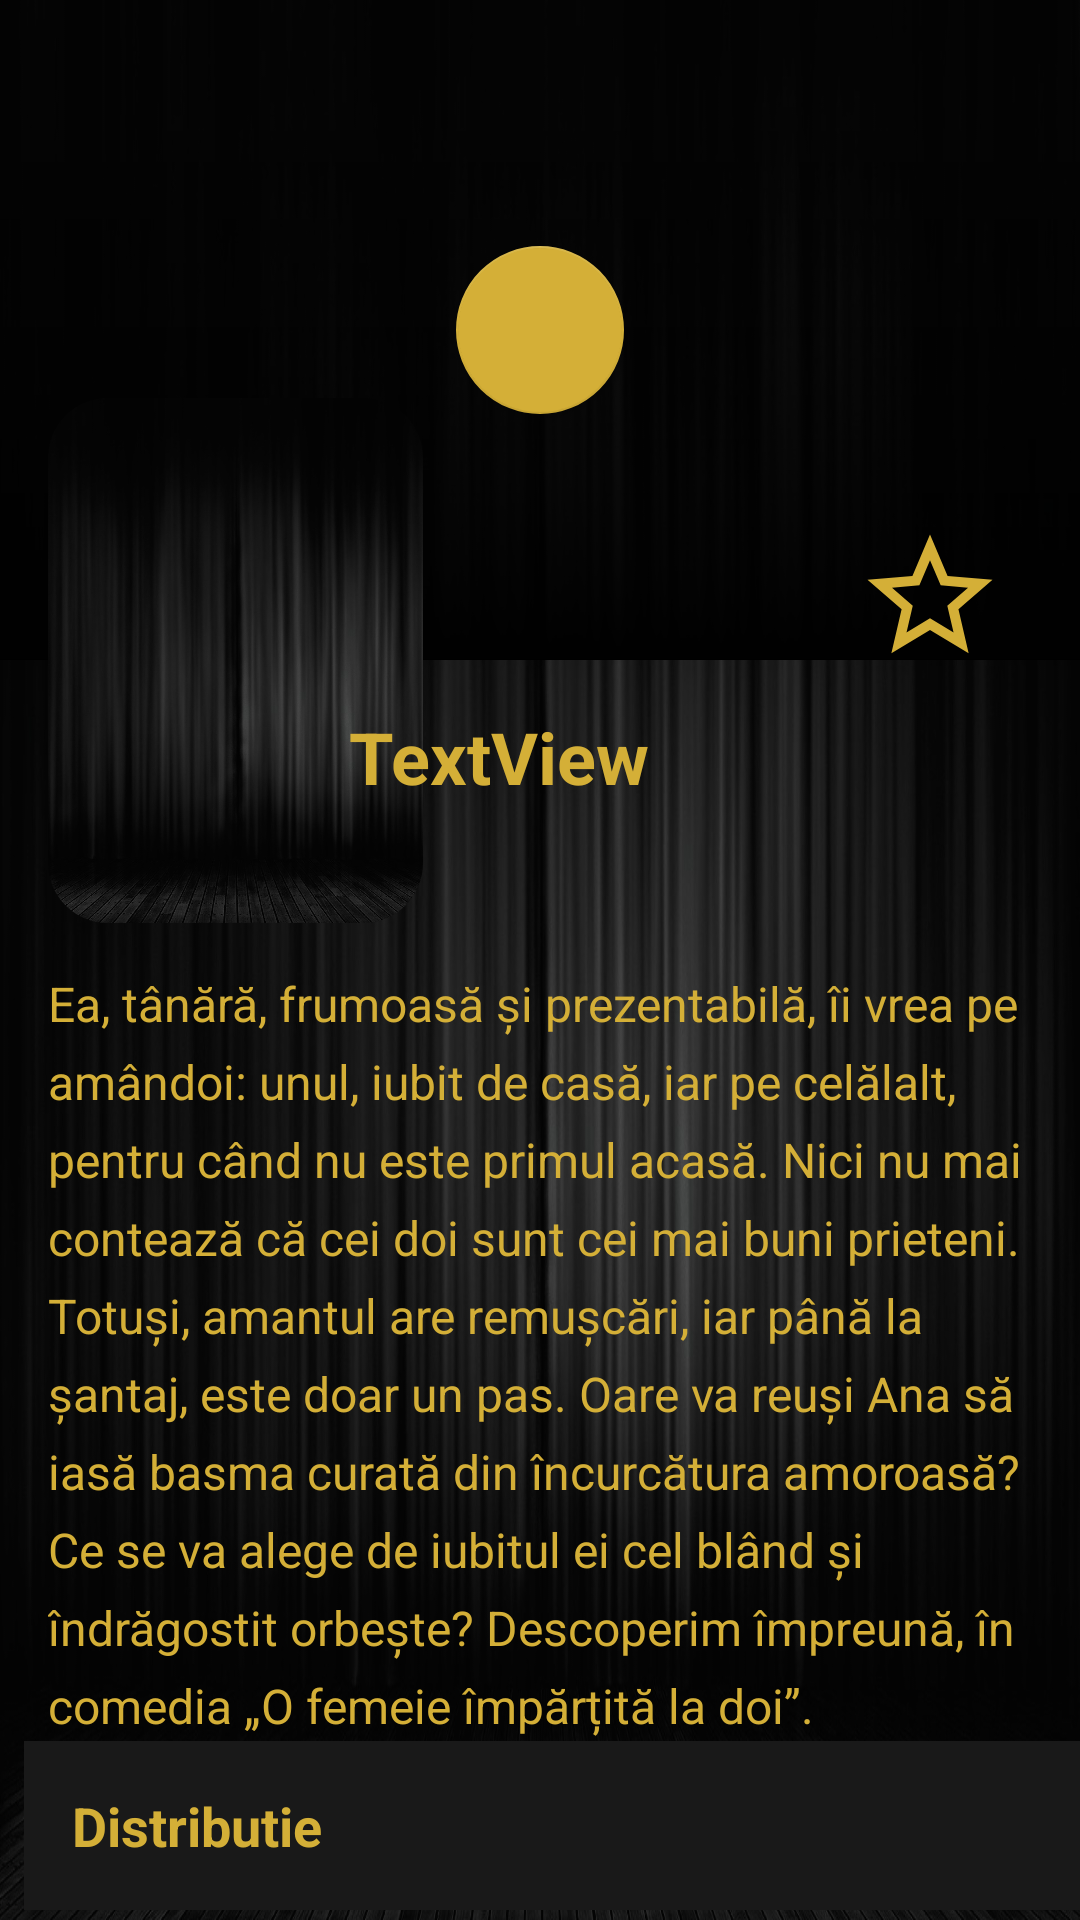

Screen size 1080px×1920px. Icon name, then its box in pixels as (x1, y1, x2, y2):
star border: (868, 535, 992, 653)
